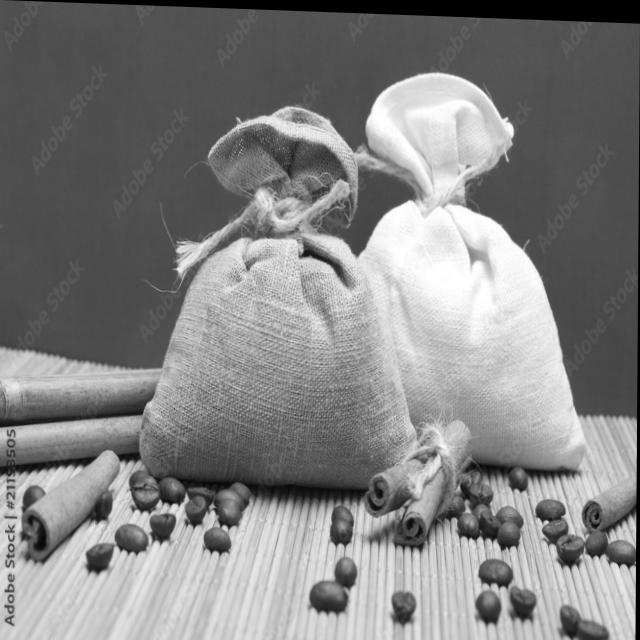sack: (139, 98, 418, 487), (355, 66, 587, 469)
